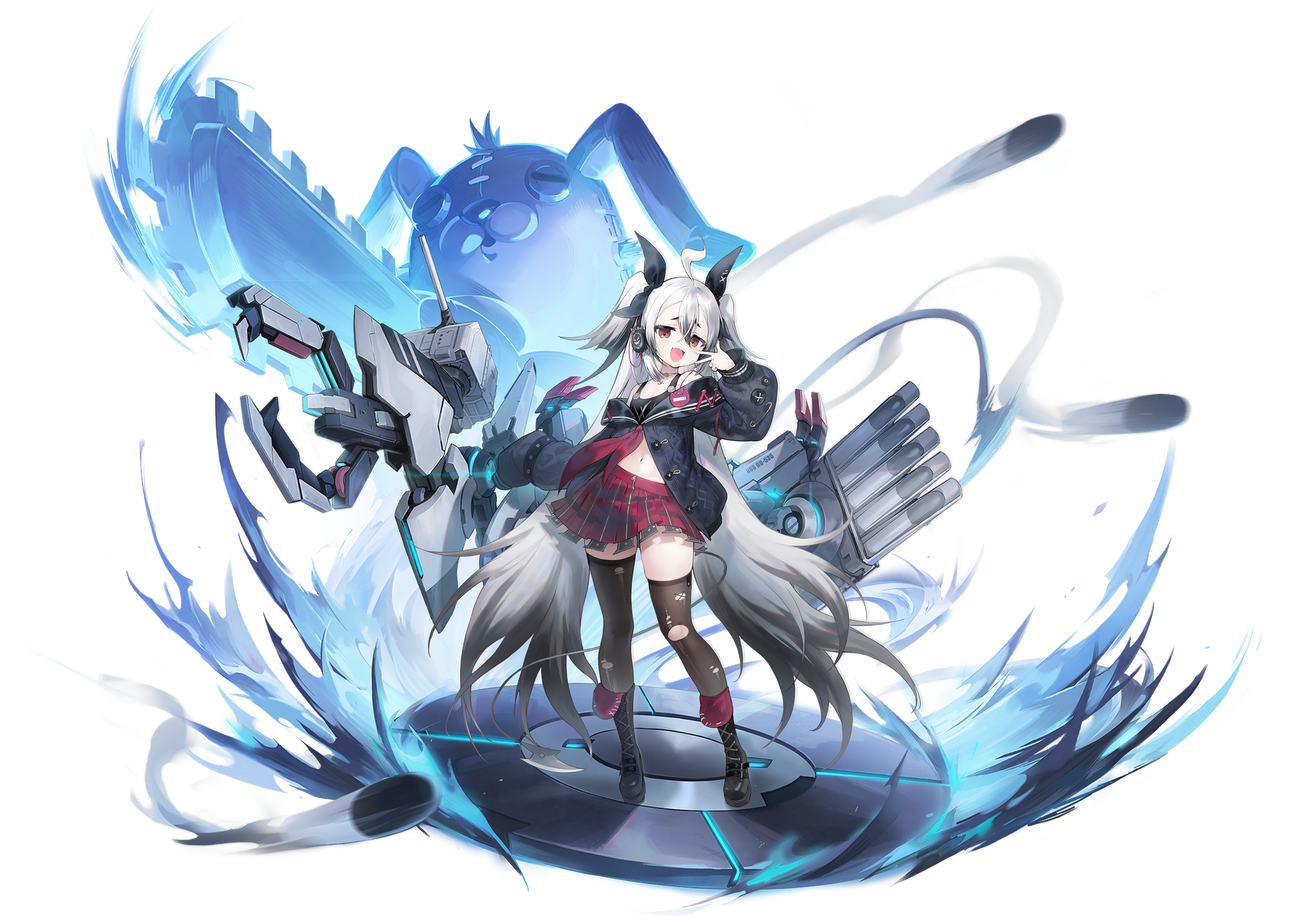person: (457, 99, 837, 886)
